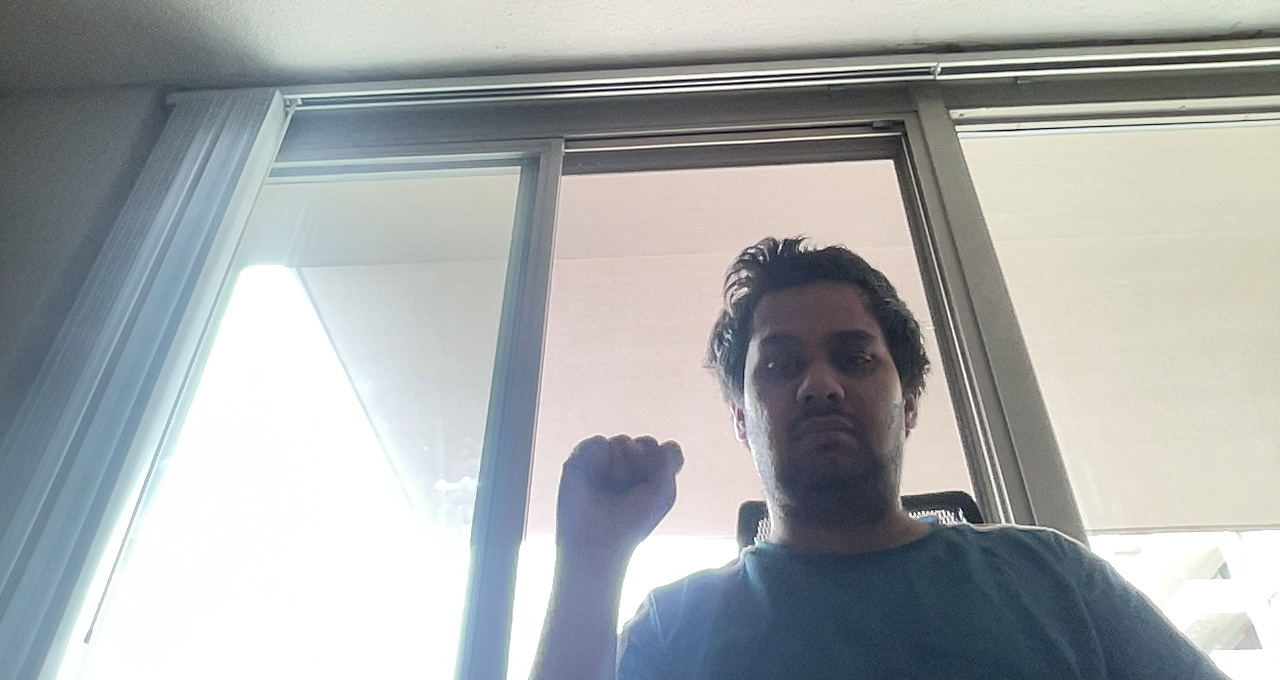closedfist: (548, 429, 689, 555)
